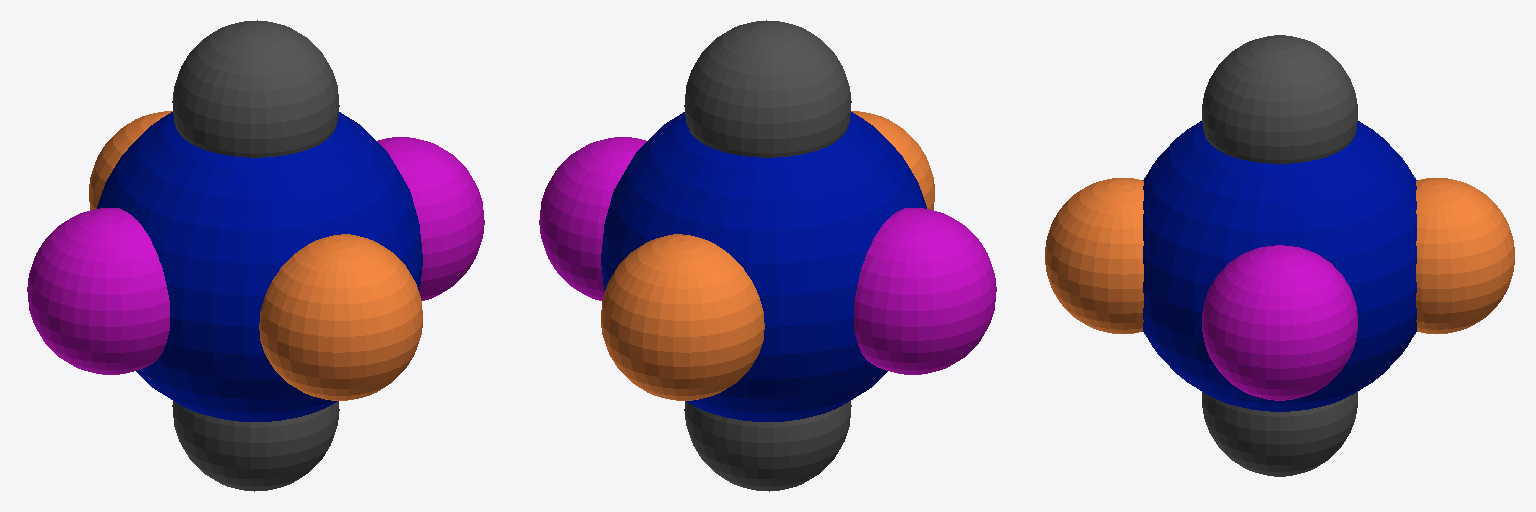
robot.urdf — Core:
<?xml version="1.0" ?>
<!-- =================================================================================== -->
<!-- |    This document was autogenerated by xacro from core.xacro                     | -->
<!-- |    EDITING THIS FILE BY HAND IS NOT RECOMMENDED                                 | -->
<!-- =================================================================================== -->
<robot name="Core">
  <material name="Black">
    <color rgba="0.1 0.1 0.1 1"/>
  </material>
  <material name="Grey">
    <color rgba="0.35 0.35 0.35 1"/>
  </material>
  <material name="Orange">
    <color rgba=".9569 .5372 .2588 1"/>
  </material>
  <material name="Blue">
    <color rgba=".0157 .1176 .6588 0.8"/>
  </material>
  <material name="Maize">
    <color rgba=".9451 .7686 0 1"/>
  </material>
  <material name="LightGrey">
    <color rgba="0.75 0.75 0.75 1"/>
  </material>
  <material name="Red">
    <color rgba="0.8 0.1 0.1 1"/>
  </material>
  <material name="Green">
    <color rgba="0.1 0.8 0.1 1"/>
  </material>
  <material name="Purple">
    <color rgba="0.8 0.1 0.8 1"/>
  </material>
  <link name="Core">
    <visual>
      <origin rpy="0 0 0" xyz="0 0 0"/>
      <geometry>
        <sphere radius="0.01"/>
      </geometry>
      <material name="Blue">
        <color rgba=".0157 .1176 .6588 0.8"/>
      </material>
    </visual>
    <collision>
      <origin rpy="0 0 0" xyz="0 0 0"/>
      <geometry>
        <sphere radius="0.01"/>
      </geometry>
      <!-- <contact_coefficient mu="0"  resitution="0"  k_p="0"  k_d="0" /> -->
    </collision>
  </link>
  <link name="Connector_1">
    <visual>
      <origin rpy="0 0 0" xyz="0 0 0"/>
      <geometry>
        <sphere radius="0.005"/>
      </geometry>
      <material name="Orange">
        <color rgba=".9569 .5372 .2588 1"/>
      </material>
    </visual>
    <collision>
      <origin rpy="0 0 0" xyz="0 0 0"/>
      <geometry>
        <sphere radius="0.005"/>
      </geometry>
      <!-- <contact_coefficient mu="0"  resitution="0"  k_p="0"  k_d="0" /> -->
    </collision>
  </link>
  <link name="Connector_2">
    <visual>
      <origin rpy="0 0 0" xyz="0 0 0"/>
      <geometry>
        <sphere radius="0.005"/>
      </geometry>
      <material name="Orange">
        <color rgba=".9569 .5372 .2588 1"/>
      </material>
    </visual>
    <collision>
      <origin rpy="0 0 0" xyz="0 0 0"/>
      <geometry>
        <sphere radius="0.005"/>
      </geometry>
      <!-- <contact_coefficient mu="0"  resitution="0"  k_p="0"  k_d="0" /> -->
    </collision>
  </link>
  <link name="Connector_3">
    <visual>
      <origin rpy="0 0 0" xyz="0 0 0"/>
      <geometry>
        <sphere radius="0.005"/>
      </geometry>
      <material name="Grey">
        <color rgba="0.35 0.35 0.35 1"/>
      </material>
    </visual>
    <collision>
      <origin rpy="0 0 0" xyz="0 0 0"/>
      <geometry>
        <sphere radius="0.005"/>
      </geometry>
      <!-- <contact_coefficient mu="0"  resitution="0"  k_p="0"  k_d="0" /> -->
    </collision>
  </link>
  <link name="Connector_4">
    <visual>
      <origin rpy="0 0 0" xyz="0 0 0"/>
      <geometry>
        <sphere radius="0.005"/>
      </geometry>
      <material name="Grey">
        <color rgba="0.35 0.35 0.35 1"/>
      </material>
    </visual>
    <collision>
      <origin rpy="0 0 0" xyz="0 0 0"/>
      <geometry>
        <sphere radius="0.005"/>
      </geometry>
      <!-- <contact_coefficient mu="0"  resitution="0"  k_p="0"  k_d="0" /> -->
    </collision>
  </link>
  <link name="Connector_5">
    <visual>
      <origin rpy="0 0 0" xyz="0 0 0"/>
      <geometry>
        <sphere radius="0.005"/>
      </geometry>
      <material name="Purple">
        <color rgba="0.8 0.1 0.8 1"/>
      </material>
    </visual>
    <collision>
      <origin rpy="0 0 0" xyz="0 0 0"/>
      <geometry>
        <sphere radius="0.005"/>
      </geometry>
      <!-- <contact_coefficient mu="0"  resitution="0"  k_p="0"  k_d="0" /> -->
    </collision>
  </link>
  <link name="Connector_6">
    <visual>
      <origin rpy="0 0 0" xyz="0 0 0"/>
      <geometry>
        <sphere radius="0.005"/>
      </geometry>
      <material name="Purple">
        <color rgba="0.8 0.1 0.8 1"/>
      </material>
    </visual>
    <collision>
      <origin rpy="0 0 0" xyz="0 0 0"/>
      <geometry>
        <sphere radius="0.005"/>
      </geometry>
      <!-- <contact_coefficient mu="0"  resitution="0"  k_p="0"  k_d="0" /> -->
    </collision>
  </link>
  <joint name="$fixed_Core_Connector_1" type="fixed">
    <origin rpy="0 0 0" xyz="0 0.01 0"/>
    <parent link="Core"/>
    <child link="Connector_1"/>
  </joint>
  <joint name="$fixed_Core_Connector_2" type="fixed">
    <origin rpy="0 0 0" xyz="0 -0.01 0"/>
    <parent link="Core"/>
    <child link="Connector_2"/>
  </joint>
  <joint name="$fixed_Core_Connector_3" type="fixed">
    <origin rpy="0 0 0" xyz="0 0 0.01"/>
    <parent link="Core"/>
    <child link="Connector_3"/>
  </joint>
  <joint name="$fixed_Core_Connector_4" type="fixed">
    <origin rpy="0 0 0" xyz="0 0 -0.01"/>
    <parent link="Core"/>
    <child link="Connector_4"/>
  </joint>
  <joint name="$fixed_Core_Connector_5" type="fixed">
    <origin rpy="0 0 0" xyz="0.01 0 0"/>
    <parent link="Core"/>
    <child link="Connector_5"/>
  </joint>
  <joint name="$fixed_Core_Connector_6" type="fixed">
    <origin rpy="0 0 0" xyz="-0.01 0 0"/>
    <parent link="Core"/>
    <child link="Connector_6"/>
  </joint>
  <!-- <xacro:fixedJoint parent="Core" child="Connector_1" pos="${ConnectionDist} 0 0" rot="0 0 0" />
    <xacro:fixedJoint parent="Core" child="Connector_2" pos="-${ConnectionDist} 0 0" rot="0 0 0" />
    <xacro:fixedJoint parent="Core" child="Connector_3" pos="0 ${ConnectionDist} 0" rot="0 0 0" />
    <xacro:fixedJoint parent="Core" child="Connector_4" pos="0 -${ConnectionDist} 0" rot="0 0 0" />
    <xacro:fixedJoint parent="Core" child="Connector_5" pos="0 0 ${ConnectionDist}" rot="0 0 0" />
    <xacro:fixedJoint parent="Core" child="Connector_6" pos="0 0 -${ConnectionDist}" rot="0 0 0" /> -->
</robot>

--- What the picture shows (computed from the rendered views, not written in the file) ---
The picture shows the robot from 3 angles, left to right: view 1: azimuth 30°, elevation 25°; view 2: azimuth 150°, elevation 25°; view 3: azimuth 270°, elevation 25°; orthographic projection.
Robot: Core — 7 links, 6 joints (6 fixed); root link Core; default pose: all joints at 0.
Visible links, largest first — view 1: Core, Connector_2, Connector_6, Connector_3, Connector_4, Connector_5, Connector_1; view 2: Core, Connector_1, Connector_6, Connector_3, Connector_4, Connector_5, Connector_2; view 3: Core, Connector_5, Connector_3, Connector_1, Connector_2, Connector_4.
Link boxes in pixels (x1,y1,x2,y2): Core: (97,112,422,421); Connector_2: (259,234,422,400); Connector_6: (27,208,169,374); Connector_3: (172,20,339,157); Connector_4: (172,401,339,491); Connector_5: (377,137,484,300); Connector_1: (89,111,172,210); Core: (601,112,926,421); Connector_1: (601,234,764,400); Connector_6: (854,208,996,374); Connector_3: (684,20,851,157); Connector_4: (684,401,851,491); Connector_5: (539,137,646,300); Connector_2: (851,111,934,210); Core: (1143,121,1416,411); Connector_5: (1202,245,1357,400); Connector_3: (1202,35,1357,163); Connector_1: (1416,178,1514,333); Connector_2: (1045,178,1143,333); Connector_4: (1202,392,1357,476).
Size in the robot's own frame: 0.03 by 0.03 by 0.03 metres.
Geometry: primitives only (box / cylinder / sphere), no mesh files.
